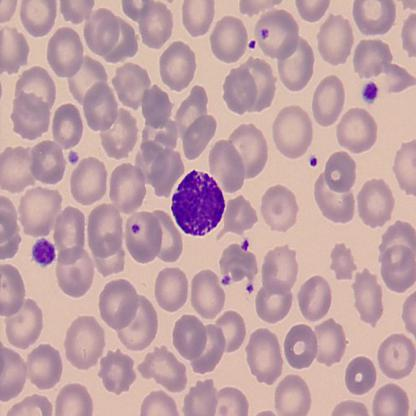Basophil: (168, 167, 226, 240)
